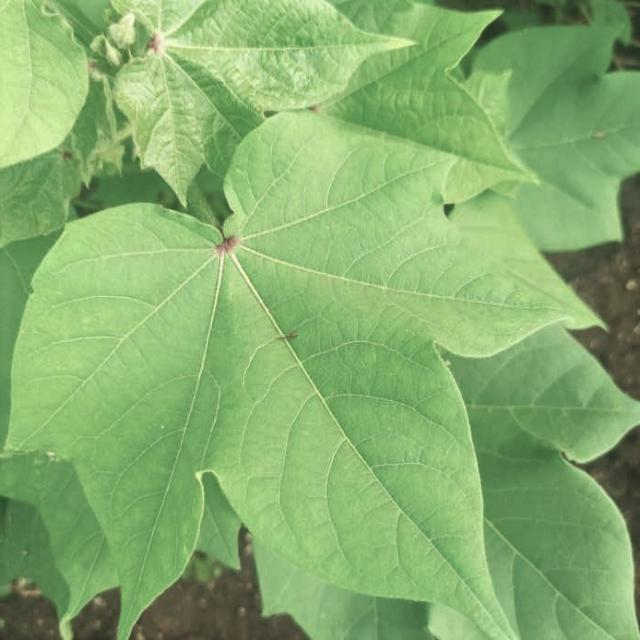Healthy Leaf: (47, 20, 636, 547)
